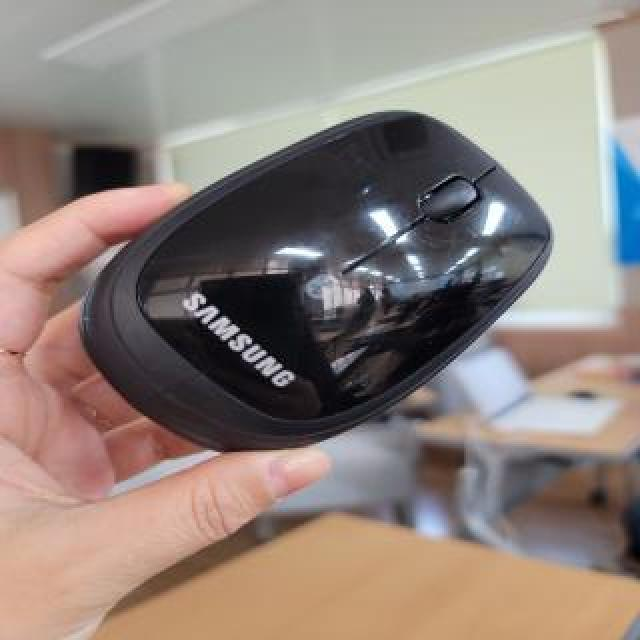mouse: (75, 42, 565, 433)
